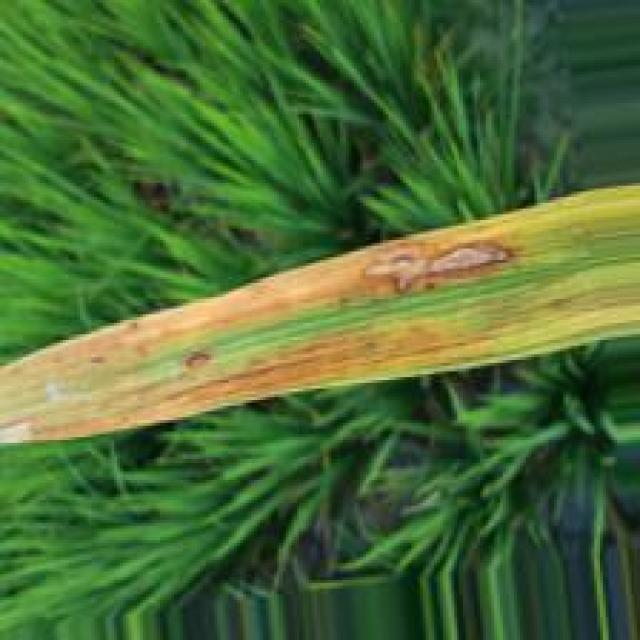Leaf_Blast: (55, 322, 485, 440), (350, 238, 524, 299), (180, 351, 216, 374)
